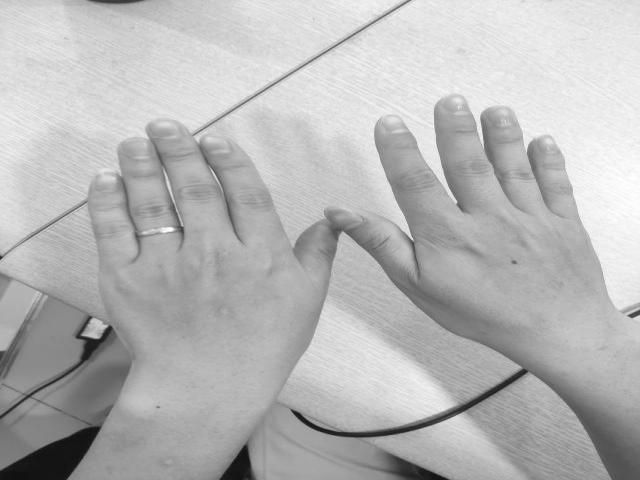not-gloved: (338, 100, 614, 337), (86, 117, 340, 355)
